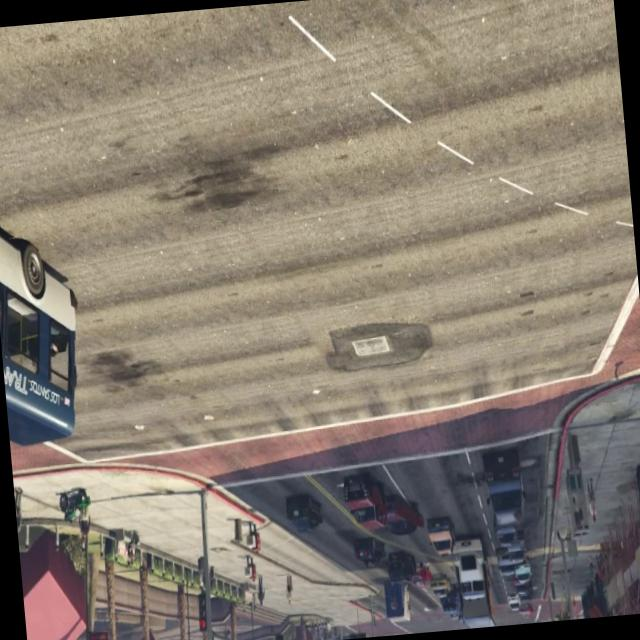Red-Signal: (187, 576, 215, 640), (340, 622, 372, 640), (264, 622, 291, 640)
